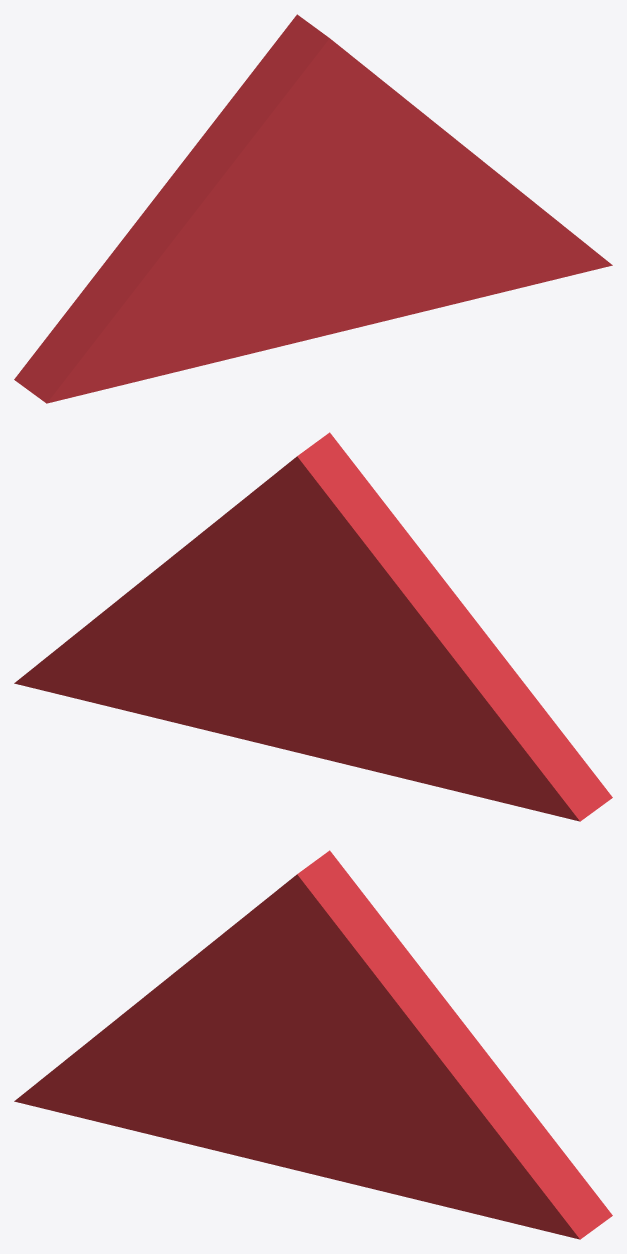
Rendered from roof_gable_middle.glb.
The picture shows the model from 3 angles, top to bottom: view 1: azimuth 30°, elevation 25°; view 2: azimuth 150°, elevation 25°; view 3: azimuth 330°, elevation 25°; orthographic projection.
Visible parts, largest first — view 1: roof_gable_middle; view 2: roof_gable_middle; view 3: roof_gable_middle.
Boxes of the visible parts, bbox=[...] form: roof_gable_middle: bbox=[14, 14, 612, 403]; roof_gable_middle: bbox=[14, 432, 612, 821]; roof_gable_middle: bbox=[14, 850, 612, 1239].
Size of the model in its own units: 1 by 0.5 by 0.1.
